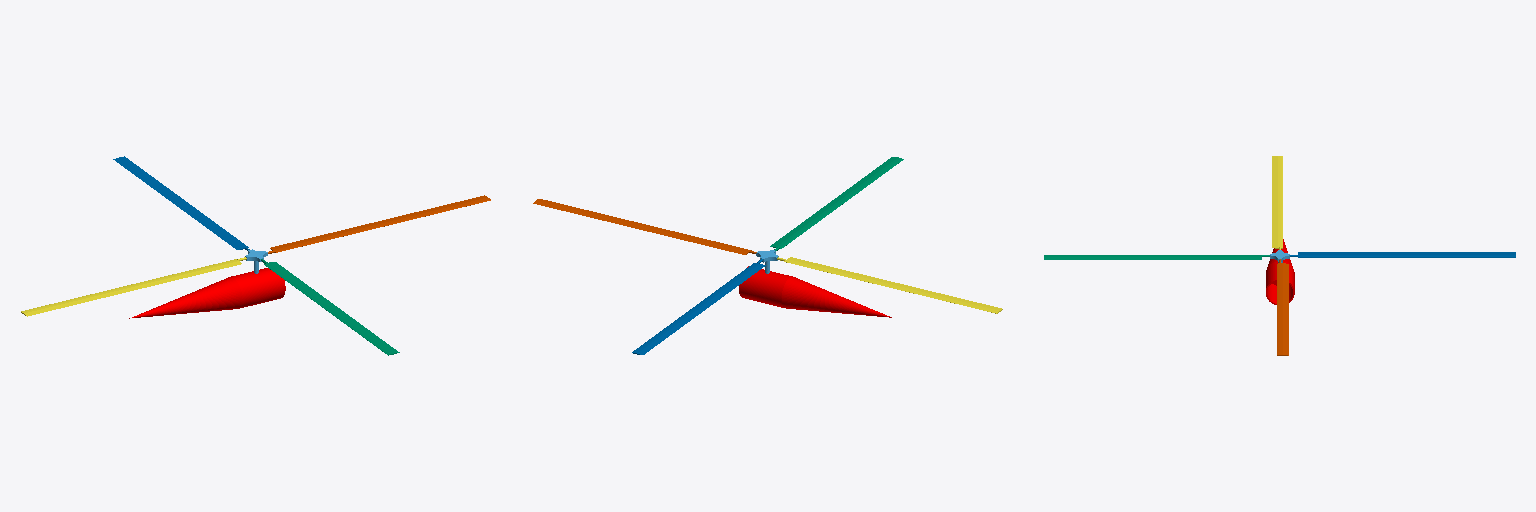
robot.urdf — robot:
<?xml version="1.0" ?>
<robot name="robot">
    
    
    
    
    
    
    
    
    <link name="b_HelicopterBody_001_">
        
        
        
        
        
        
        
        
        <visual>
            
            
            
            
            
            
            
            
            <geometry>
                
                
                
                
                
                
                
                
                <mesh filename="b_HelicopterBody_001_.obj"/>
                
                
                
                
            
            
            
            
            </geometry>
            
            
            
            
            
            
            
            
            <origin xyz="0 0 0" rpy="0 0 0"/>
            
            
            
            
            
            
            
            
            <material name="visual_material">
                
                
                
                
                
                
                
                
                <color rgba="1 0 0 1"/>
                
                
                
                
            
            
            
            
            </material>
            
            
            
            
        
        
        
        
        </visual>
        
        
        
        
        
        
        
        
        <inertial>
            
            
            
            
            
            
            
            
            <mass value="1"/>
            
            
            
            
            
            
            
            
            <origin xyz="0 0 0" rpy="0 0 0"/>
            
            
            
            
            
            
            
            
            <inertia ixx="1" ixy="0" ixz="0" iyy="1" iyz="0" izz="1"/>
            
            
            
            
        
        
        
        
        </inertial>
        
        
        
        
        
        
        
        
        <collision>
            
            
            
            
            
            
            
            
            <geometry>
                
                
                
                
                
                
                
                
                <mesh filename="b_HelicopterBody_001_.obj"/>
                
                
                
                
            
            
            
            
            </geometry>
            
            
            
            
            
            
            
            
            <origin xyz="0 0 0" rpy="0 0 0"/>
            
            
            
            
        
        
        
        
        </collision>
        
        
        
        
    
    
    
    
    </link>
    
    
    
    
    
    
    
    
    <joint name="Revolute_continuous_001" type="continuous">
        
        
        
        
        
        
        
        
        <parent link="b_HelicopterBody_001_"/>
        
        
        
        
        
        
        
        
        <child link="b_RotorHub_001_"/>
        
        
        
        
        
        
        
        
        <origin rpy="0 0 0" xyz="77.77526246370776 0.0 47.141589828062166"/>
        
        
        
        
        
        
        
        
        <axis xyz="0.0 0.0 1.0"/>
        
        
        
        
        
        
        
        
        <limit velocity="10000000"/>
        
        
        
        
    
    
    
    
    </joint>
    
    
    
    
    
    
    
    
    <link name="b_RotorHub_001_">
        
        
        
        
        
        
        
        
        <visual>
            
            
            
            
            
            
            
            
            <origin xyz="-77.77526246370776 -0.0 -47.141589828062166" rpy="0 0 0"/>
            
            
            
            
            
            
            
            
            <geometry>
                
                
                
                
                
                
                
                
                <mesh filename="b_RotorHub_001_.obj"/>
                
                
                
                
            
            
            
            
            </geometry>
            
            
            
            
        
        
        
        
        </visual>
        
        
        
        
        
        
        
        
        <inertial>
            
            
            
            
            
            
            
            
            <mass value="1"/>
            
            
            
            
            
            
            
            
            <origin xyz="0 0 0"/>
            
            
            
            
            
            
            
            
            <inertia ixx="15990400.580622" ixy="-0.000000" ixz="0.000000" iyy="15990400.580622" iyz="0.000000" izz="12786282.449050"/>
            
            
            
            
        
        
        
        
        </inertial>
        
        
        
        
        
        
        
        
        <collision>
            
            
            
            
            
            
            
            
            <geometry>
                
                
                
                
                
                
                
                
                <mesh filename="b_RotorHub_001_.obj"/>
                
                
                
                
            
            
            
            
            </geometry>
            
            
            
            
        
        
        
        
        </collision>
        
        
        
        
    
    
    
    
    </link>
    
    
    
    

    
    
    
    <joint name="Revolute_continuous_002" type="continuous">
        
        
        
        
        
        
        <parent link="b_RotorHub_001_"/>
        
        
        
        
        
        
        <child link="b_RotorBlade_001_"/>
        
        
        
        
        
        
        <origin rpy="0 0 0" xyz="1.3350139766998836e-06 -30.53221065278335 57.96732740826596"/>
        
        
        
        
        
        
        <axis xyz="0.0 -1.0 0.0"/>
        
        
        
        
        
        
        <limit velocity="10000000"/>
        
        
        
    
    
    
    </joint>
    
    
    
    
    
    
    <link name="b_RotorBlade_001_">
        
        
        
        
        
        
        <visual>
            
            
            
            
            
            
            <origin xyz="-77.77526379872174 30.53221065278335 -105.10891723632812" rpy="0 0 0"/>
            
            
            
            
            
            
            <geometry>
                
                
                
                
                
                
                <mesh filename="b_RotorBlade_001_.obj"/>
                
                
                
            
            
            
            </geometry>
            
            
            
        
        
        
        </visual>
        
        
        
        
        
        
        <inertial>
            
            
            
            
            
            
            <mass value="1"/>
            
            
            
            
            
            
            <origin xyz="0 0 0"/>
            
            
            
            
            
            
            <inertia ixx="3383481344.083817" ixy="3877503.399863" ixz="-0.000000" iyy="5819634.131645" iyz="-0.000000" izz="3389204315.315525"/>
            
            
            
        
        
        
        </inertial>
        
        
        
        
        
        
        <collision>
            
            
            
            
            
            
            <geometry>
                
                
                
                
                
                
                <mesh filename="b_RotorBlade_001_.obj"/>
                
                
                
            
            
            
            </geometry>
            
            
            
        
        
        
        </collision>
        
        
        
    
    
    
    </link>
    
    
    

    
    
    <joint name="Revolute_continuous_003" type="continuous">
        
        
        
        
        <parent link="b_RotorHub_001_"/>
        
        
        
        
        <child link="b_RotorBlade_001_001"/>
        
        
        
        
        <origin rpy="0 0 0" xyz="-30.53221095828082 1.0850530474115772e-08 57.96732740826596"/>
        
        
        
        
        <axis xyz="-1.0 0.0 0.0"/>
        
        
        
        
        <limit velocity="10000000"/>
        
        
    
    
    </joint>
    
    
    
    
    <link name="b_RotorBlade_001_001">
        
        
        
        
        <visual>
            
            
            
            
            <origin xyz="-47.24305150542694 -1.0850530474115772e-08 -105.10891723632812" rpy="0 0 0"/>
            
            
            
            
            <geometry>
                
                
                
                
                <mesh filename="b_RotorBlade_001_001.obj"/>
                
                
            
            
            </geometry>
            
            
        
        
        </visual>
        
        
        
        
        <inertial>
            
            
            
            
            <mass value="1"/>
            
            
            
            
            <origin xyz="0 0 0"/>
            
            
            
            
            <inertia ixx="5819634.131645" ixy="-3877503.399862" ixz="-0.000000" iyy="3383481344.083817" iyz="0.000000" izz="3389204315.315527"/>
            
            
        
        
        </inertial>
        
        
        
        
        <collision>
            
            
            
            
            <geometry>
                
                
                
                
                <mesh filename="b_RotorBlade_001_001.obj"/>
                
                
            
            
            </geometry>
            
            
        
        
        </collision>
        
        
    
    
    </link>
    
    

    
    <joint name="Revolute_continuous_004" type="continuous">
        
        
        <parent link="b_RotorHub_001_"/>
        
        
        <child link="b_RotorBlade_001_002"/>
        
        
        <origin rpy="0 0 0" xyz="1.0429801022837637e-08 30.532211002712636 57.96732740826596"/>
        
        
        <axis xyz="0.0 1.0 0.0"/>
        
        
        <limit velocity="10000000"/>
        
    
    </joint>
    
    
    <link name="b_RotorBlade_001_002">
        
        
        <visual>
            
            
            <origin xyz="-77.77526247413756 -30.532211002712636 -105.10891723632812" rpy="0 0 0"/>
            
            
            <geometry>
                
                
                <mesh filename="b_RotorBlade_001_002.obj"/>
                
            
            </geometry>
            
        
        </visual>
        
        
        <inertial>
            
            
            <mass value="1"/>
            
            
            <origin xyz="0 0 0"/>
            
            
            <inertia ixx="3383481344.083818" ixy="3877503.399862" ixz="0.000000" iyy="5819634.131645" iyz="0.000000" izz="3389204315.315527"/>
            
        
        </inertial>
        
        
        <collision>
            
            
            <geometry>
                
                
                <mesh filename="b_RotorBlade_001_002.obj"/>
                
            
            </geometry>
            
        
        </collision>
        
    
    </link>
    

    <joint name="Revolute_continuous_005" type="continuous">
        <parent link="b_RotorHub_001_"/>
        <child link="b_RotorBlade_001_003"/>
        <origin rpy="0 0 0" xyz="30.53221101042979 2.71262212692136e-09 57.96732740826596"/>
        <axis xyz="1.0 0.0 0.0"/>
        <limit velocity="10000000"/>
    </joint>
    <link name="b_RotorBlade_001_003">
        <visual>
            <origin xyz="-108.30747347413755 -2.71262212692136e-09 -105.10891723632812" rpy="0 0 0"/>
            <geometry>
                <mesh filename="b_RotorBlade_001_003.obj"/>
            </geometry>
        </visual>
        <inertial>
            <mass value="1"/>
            <origin xyz="0 0 0"/>
            <inertia ixx="5819634.131645" ixy="-3877503.399864" ixz="0.000000" iyy="3383481344.083822" iyz="0.000000" izz="3389204315.315531"/>
        </inertial>
        <collision>
            <geometry>
                <mesh filename="b_RotorBlade_001_003.obj"/>
            </geometry>
        </collision>
    </link>
</robot>

--- What the picture shows (computed from the rendered views, not written in the file) ---
The picture shows the robot from 3 angles, left to right: view 1: azimuth 30°, elevation 25°; view 2: azimuth 150°, elevation 25°; view 3: azimuth 270°, elevation 25°; orthographic projection.
Robot: robot — 6 links, 5 joints (5 continuous); root link b_HelicopterBody_001_; default pose: every joint at zero.
Links seen in each view (by area): view 1: b_HelicopterBody_001_, b_RotorBlade_001_001, b_RotorBlade_001_003, b_RotorBlade_001_, b_RotorBlade_001_002; view 2: b_HelicopterBody_001_, b_RotorBlade_001_001, b_RotorBlade_001_002, b_RotorBlade_001_003, b_RotorBlade_001_; view 3: b_RotorBlade_001_002, b_RotorBlade_001_003, b_RotorBlade_001_, b_RotorBlade_001_001, b_HelicopterBody_001_.
Boxes of the visible links, <box> form: b_HelicopterBody_001_: <box>129,268,285,318</box>; b_RotorBlade_001_001: <box>21,257,246,316</box>; b_RotorBlade_001_003: <box>268,195,490,253</box>; b_RotorBlade_001_: <box>261,259,399,355</box>; b_RotorBlade_001_002: <box>113,156,249,250</box>; b_HelicopterBody_001_: <box>739,266,891,317</box>; b_RotorBlade_001_001: <box>777,257,1002,313</box>; b_RotorBlade_001_002: <box>632,259,765,354</box>; b_RotorBlade_001_003: <box>533,199,756,254</box>; b_RotorBlade_001_: <box>770,157,903,250</box>; b_RotorBlade_001_002: <box>1290,252,1515,257</box>; b_RotorBlade_001_003: <box>1277,259,1288,355</box>; b_RotorBlade_001_: <box>1044,255,1269,259</box>; b_RotorBlade_001_001: <box>1272,156,1282,249</box>; b_HelicopterBody_001_: <box>1266,239,1294,304</box>.
Bounding box of the posed robot: 1626 × 1626 × 161 m (x, y, z).
6 mesh visuals loaded from 6 distinct referenced files (6 OBJ).
